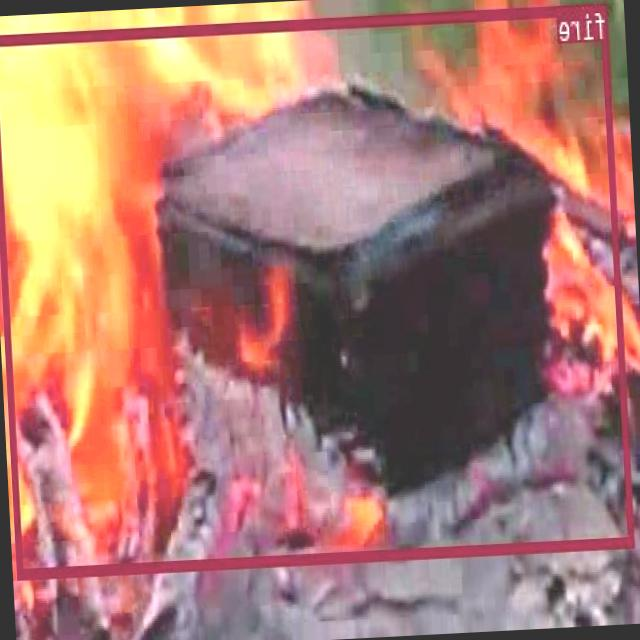fire: (0, 2, 636, 577)
